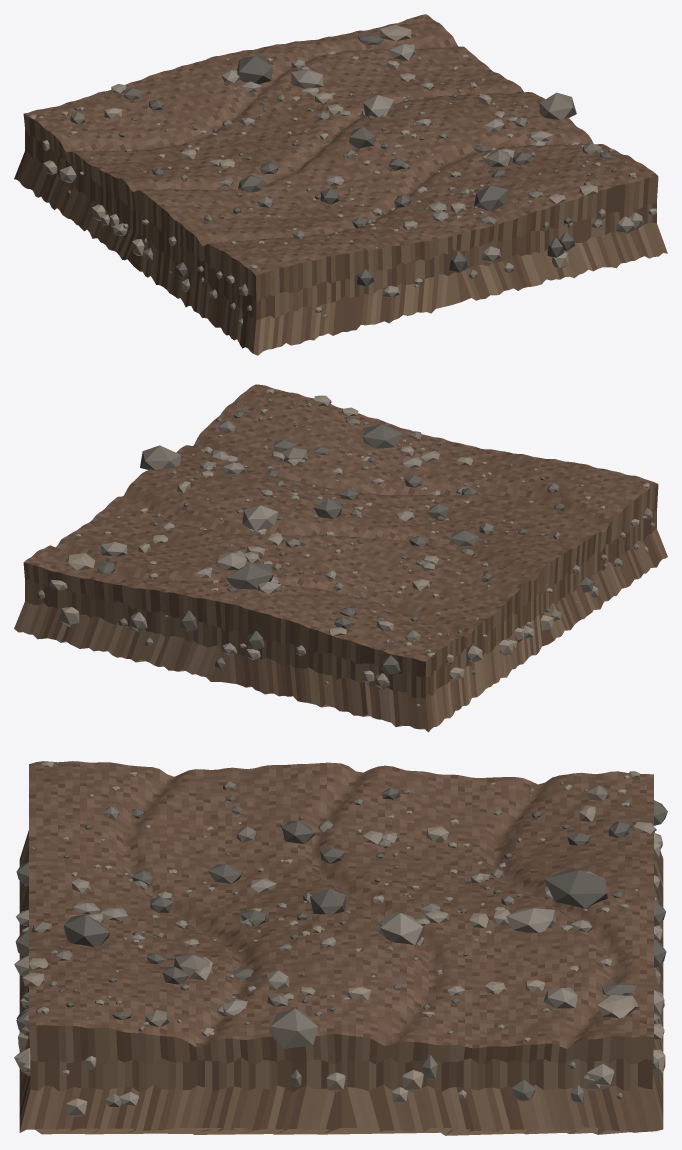
The model's file is 01_干燥起伏土壤.glb.
3 views of the same model, one above another, from view 1: azimuth 30°, elevation 25°; view 2: azimuth 150°, elevation 25°; view 3: azimuth 270°, elevation 25° (orthographic). The views are drawn at different scales.
Parts seen in each view (by area): view 1: 地表_可编辑网格, 土层剖面_闭合侧壁, 石砾_140, 石砾_129, 石砾_245, 石砾_131, 石砾_126; view 2: 地表_可编辑网格, 土层剖面_闭合侧壁, 石砾_140, 石砾_129, 石砾_245, 石砾_131; view 3: 地表_可编辑网格, 土层剖面_闭合侧壁, 石砾_140, 石砾_129, 石砾_245, 石砾_131, 石砾_126, 石砾_050, 石砾_152, 石砾_000, 石砾_090.
Boxes of the visible parts, x1,y1,x2,y2 form: 地表_可编辑网格: (24,14,658,275); 土层剖面_闭合侧壁: (14,114,667,355); 石砾_140: (237,55,272,84); 石砾_129: (539,92,576,119); 石砾_245: (474,184,507,211); 石砾_131: (363,95,393,117); 石砾_126: (291,69,323,88); 地表_可编辑网格: (24,384,657,661); 土层剖面_闭合侧壁: (14,484,667,732); 石砾_140: (225,563,273,589); 石砾_129: (140,445,180,469); 石砾_245: (362,424,402,448); 石砾_131: (242,505,278,531); 地表_可编辑网格: (29,761,653,1048); 土层剖面_闭合侧壁: (19,830,663,1135); 石砾_140: (544,868,607,908); 石砾_129: (269,1008,318,1048); 石砾_245: (63,914,110,947); 石砾_131: (378,913,423,945); 石砾_126: (506,908,555,932); 石砾_050: (310,888,345,914); 石砾_152: (597,995,638,1018); 石砾_000: (543,987,577,1008); 石砾_090: (281,821,314,843).
Bounding box in the file's own units: 5.28 × 1.16 × 5.23.
